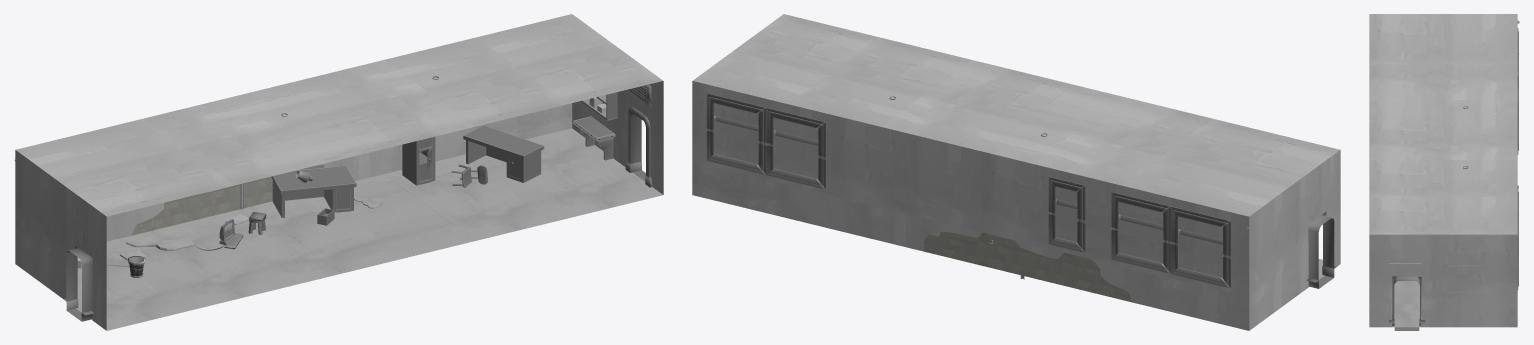
Rendered from MSH_QuestStandard_L3_R3_optimized.fbx.
3 views of the same model, side by side, from view 1: azimuth 30°, elevation 25°; view 2: azimuth 150°, elevation 25°; view 3: azimuth 270°, elevation 25° (orthographic). The views are drawn at different scales.
Visible parts, largest first — view 1: lightmap3, lightmap2, lightmap1, lightmap0, lightmap-1; view 2: lightmap1, lightmap3, lightmap0; view 3: lightmap3, lightmap1, lightmap2, lightmap0.
Part boxes in pixels (bbox=[...]): lightmap3: bbox=[15, 14, 662, 216]; lightmap2: bbox=[76, 128, 662, 330]; lightmap1: bbox=[15, 81, 663, 330]; lightmap0: bbox=[14, 76, 652, 321]; lightmap-1: bbox=[77, 136, 591, 320]; lightmap1: bbox=[692, 81, 1340, 330]; lightmap3: bbox=[693, 14, 1340, 216]; lightmap0: bbox=[889, 96, 1337, 288]; lightmap3: bbox=[1369, 14, 1517, 234]; lightmap1: bbox=[1369, 28, 1518, 327]; lightmap2: bbox=[1392, 281, 1420, 327]; lightmap0: bbox=[1389, 20, 1519, 330].
Size of the model in its own units: 30.91 by 6.1 by 8.62.
Materials: 5 (4 with a texture image).
